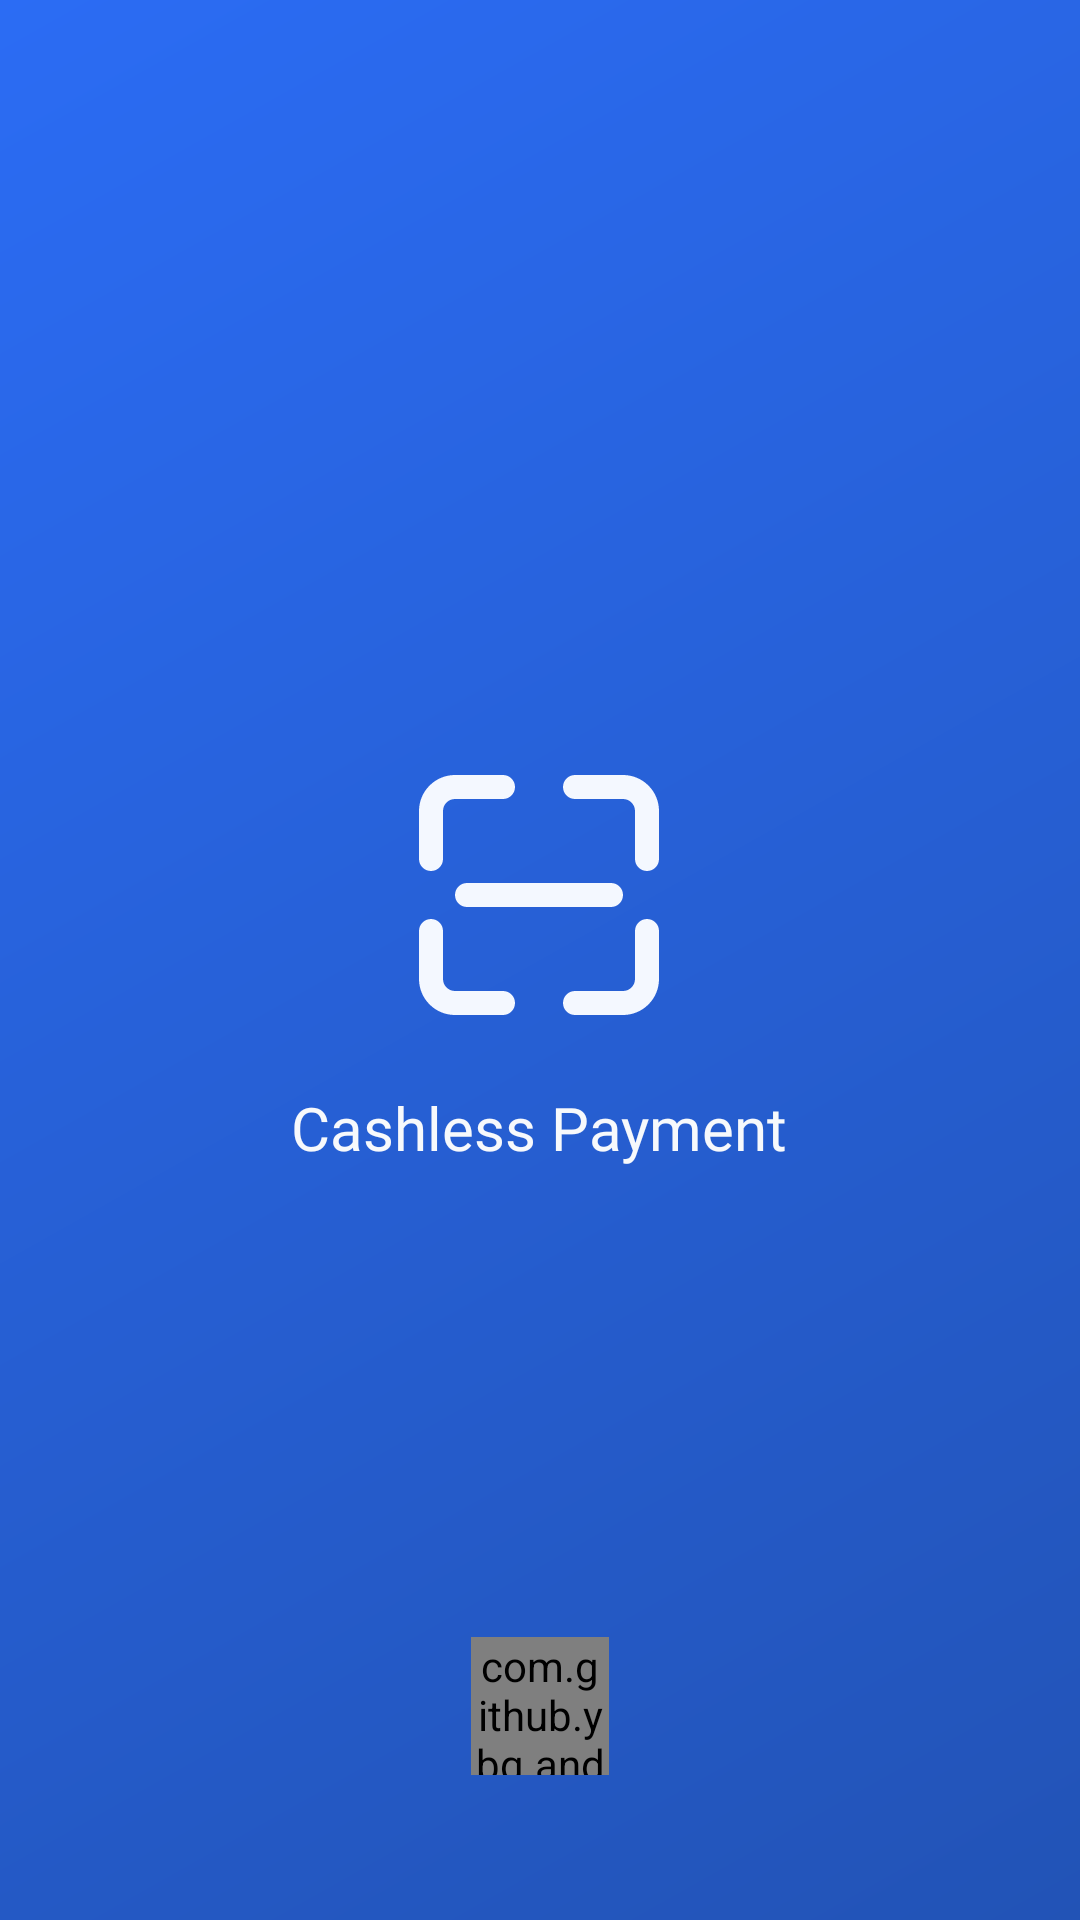

Named icons in this screenshot (1080×1920) and their centers, point (x, y):
scan: point (539, 895)
